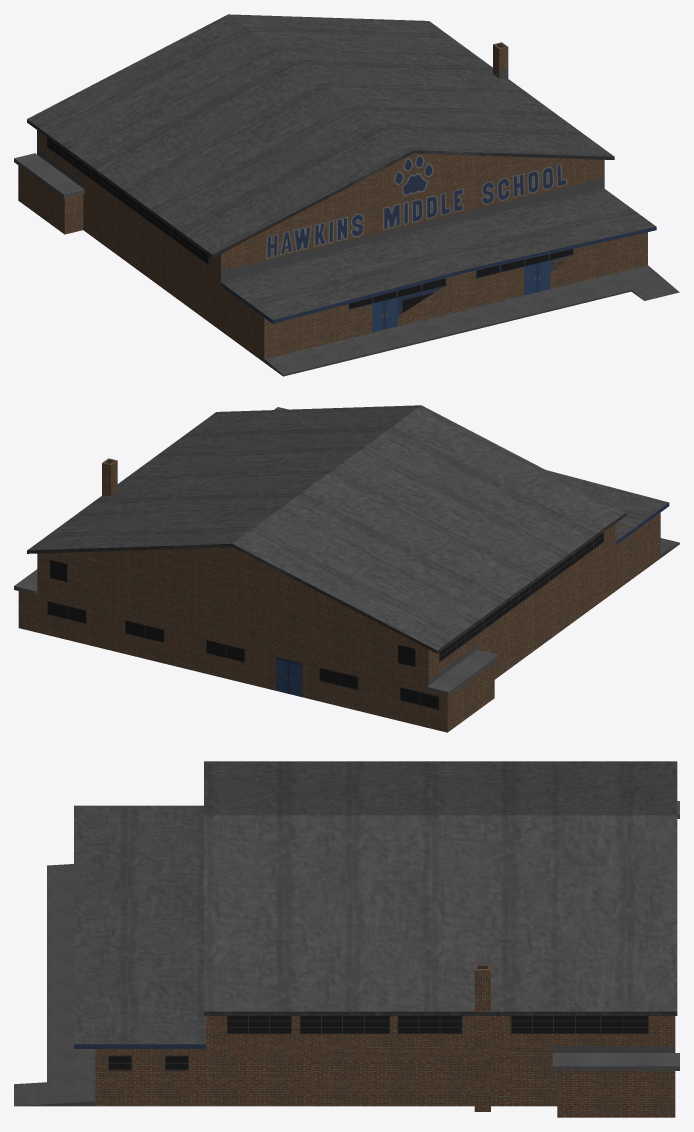
Rendered from hawkins_middle_school.glb.
The picture shows the model from 3 angles, top to bottom: view 1: azimuth 30°, elevation 25°; view 2: azimuth 150°, elevation 25°; view 3: azimuth 270°, elevation 25°; orthographic projection. The views are drawn at different scales.
Visible parts, largest first — view 1: Hawkins_Middle_School_Convert_2; view 2: Hawkins_Middle_School_Convert_2; view 3: Hawkins_Middle_School_Convert_2.
Part boxes in pixels (box(x1,y1,x2,y2)): Hawkins_Middle_School_Convert_2: box(14, 14, 679, 376); Hawkins_Middle_School_Convert_2: box(14, 405, 679, 732); Hawkins_Middle_School_Convert_2: box(14, 761, 679, 1117).
Size of the model in its own units: 33.3 by 10.04 by 35.35.
Materials: 1 (1 with a texture image).
